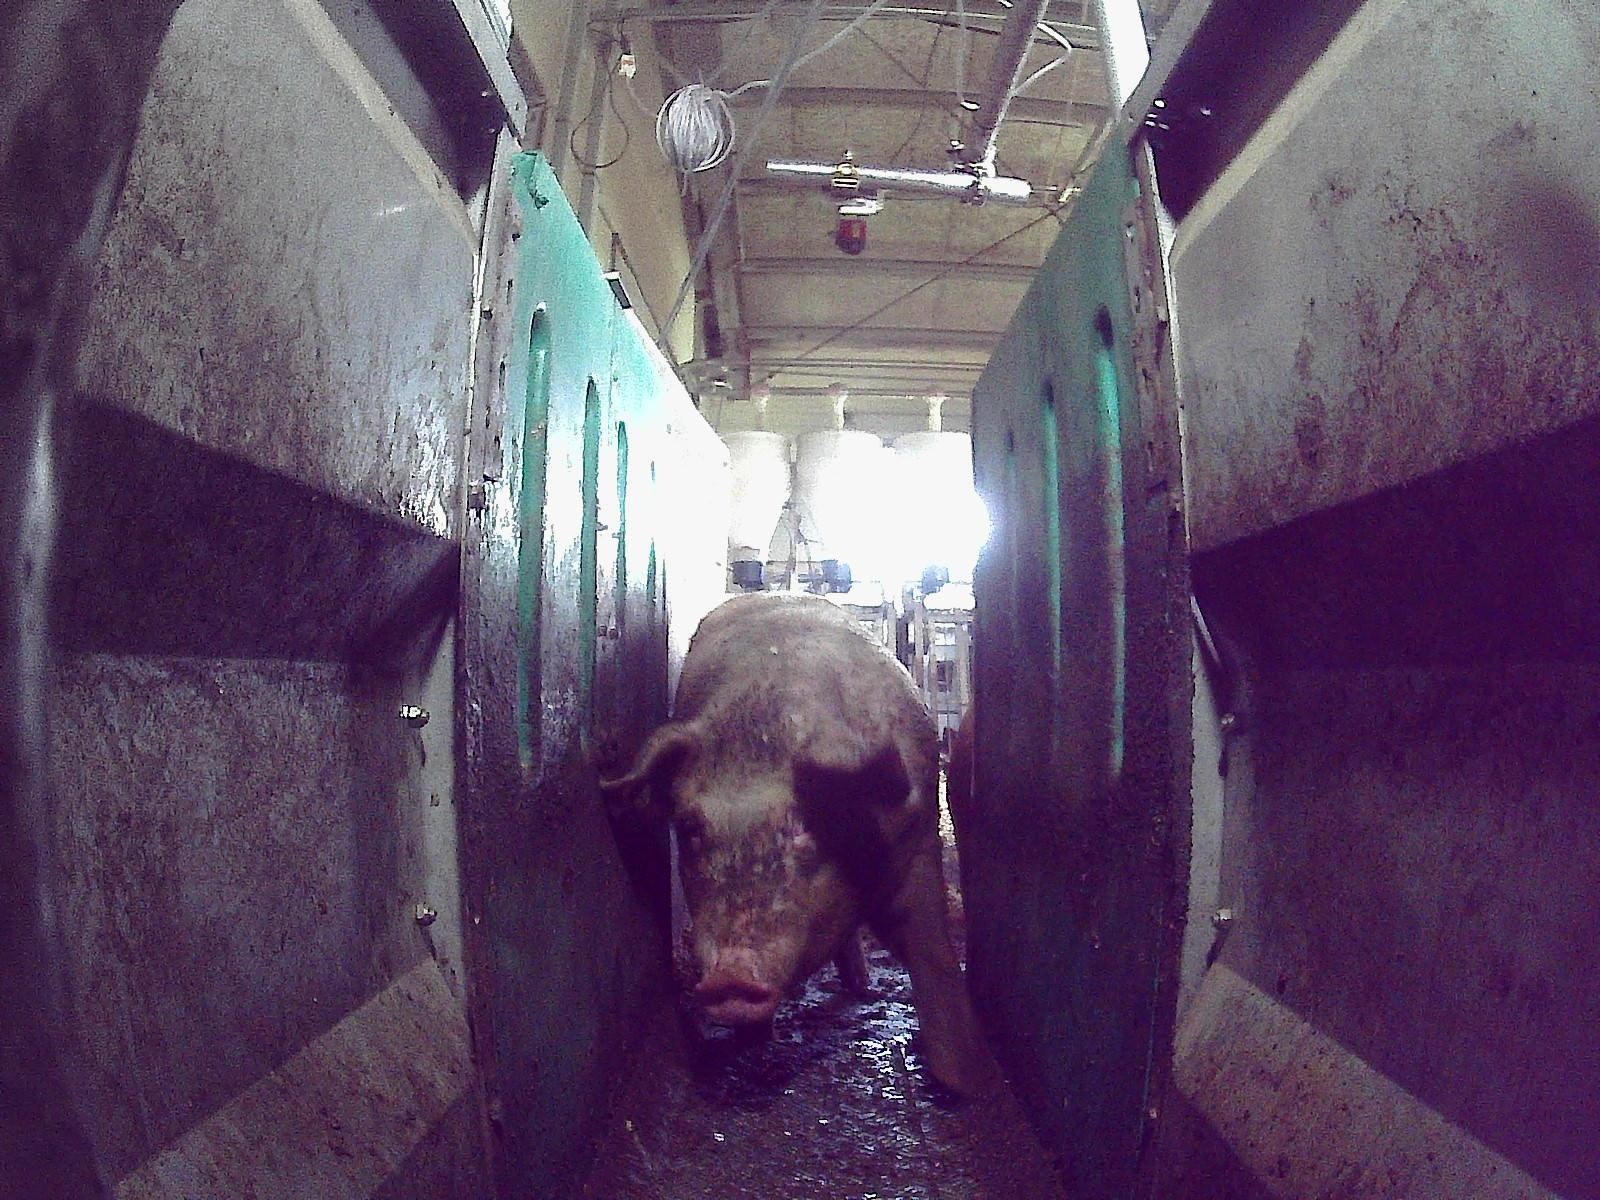Face: (673, 702, 859, 1023)
